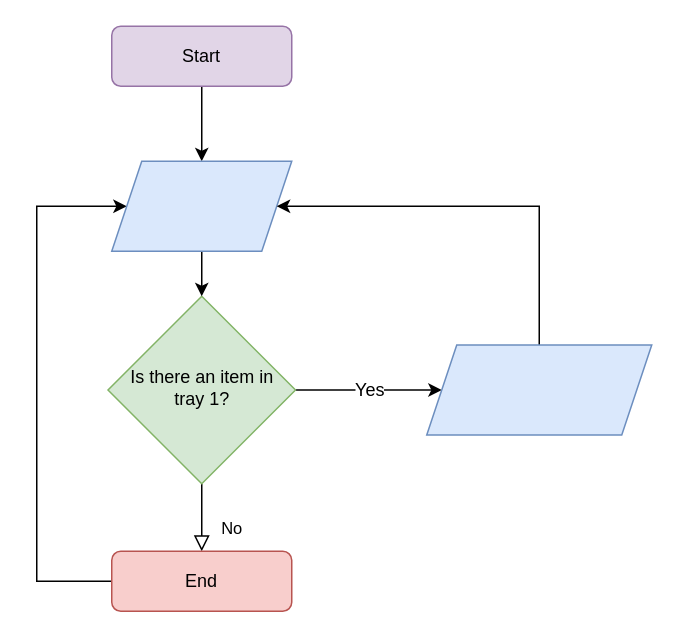
The diagram is 678 pixels wide and 638 high, and some of its shapes have lost their labels. The shapes that lost their labels are listed below. From the top down, each one's centre as x and y in pixels, then its label:
At [201,205]: "Image Processing".
At [538,389]: "Grasp Item and move it from tray 1 to tray 2".
